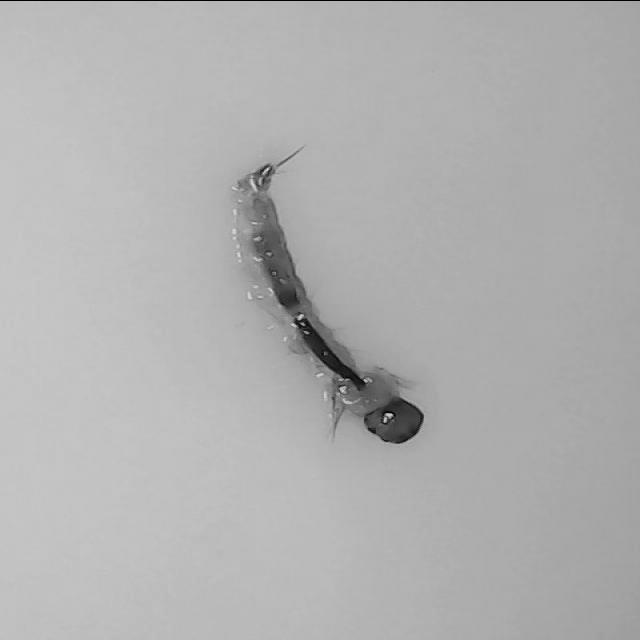larvas: (238, 165, 424, 445)
